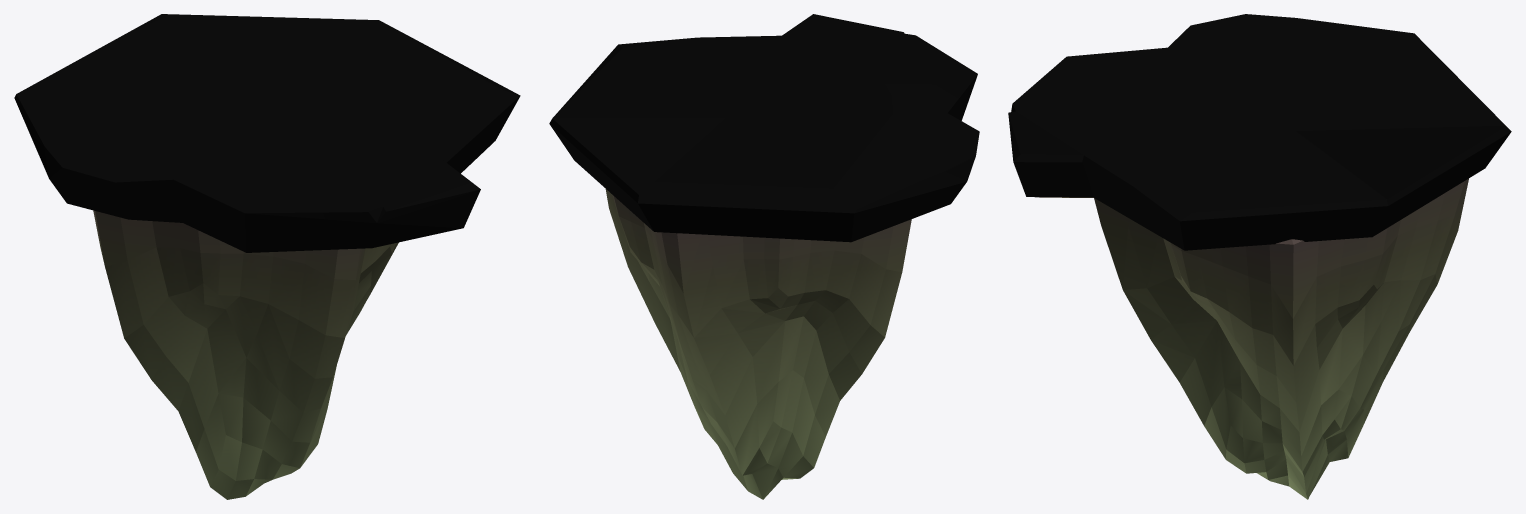
3 renders of one model, left to right at view 1: azimuth 30°, elevation 25°; view 2: azimuth 150°, elevation 25°; view 3: azimuth 270°, elevation 25°, orthographic. The views are drawn at different scales.
Parts seen in each view (by area): view 1: floe.012, Hill_desert_004.001; view 2: floe.012, Hill_desert_004.001; view 3: floe.012, Hill_desert_004.001.
Part boxes in pixels (x1=…): floe.012: x1=14, y1=14, x2=520, y2=252; Hill_desert_004.001: x1=93, y1=210, x2=398, y2=499; floe.012: x1=549, y1=14, x2=979, y2=242; Hill_desert_004.001: x1=605, y1=189, x2=911, y2=499; floe.012: x1=1008, y1=14, x2=1511, y2=250; Hill_desert_004.001: x1=1094, y1=178, x2=1468, y2=499.
Bounding box in the file's own units: 1375 × 1232 × 1450.
